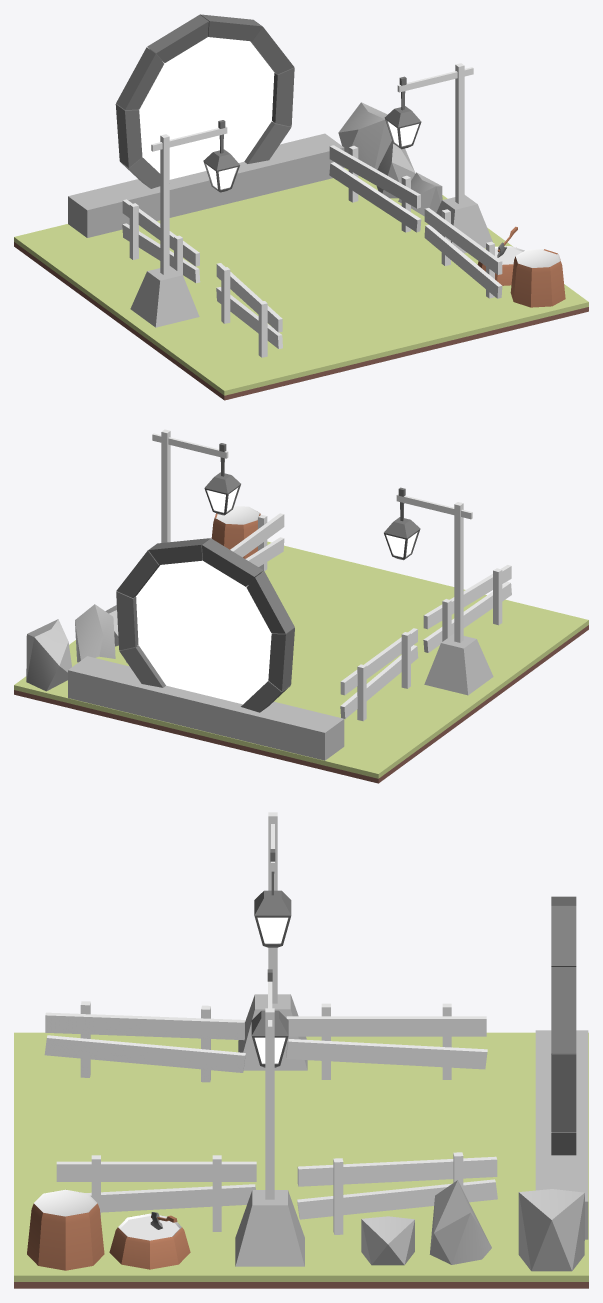
The model's file is threejsjourney.glb.
3 views of the same model, one above another, from view 1: azimuth 30°, elevation 25°; view 2: azimuth 150°, elevation 25°; view 3: azimuth 270°, elevation 25° (orthographic). The views are drawn at different scales.
Parts seen in each view (by area): view 1: fence.002, portalFill; view 2: fence.002, portalFill; view 3: fence.002, lamp2.
Boxes of the visible parts, x1,y1,x2,y2 form: fence.002: [14, 14, 588, 400]; portalFill: [139, 37, 274, 179]; fence.002: [14, 429, 588, 783]; portalFill: [136, 560, 271, 704]; fence.002: [14, 812, 588, 1288]; lamp2: [257, 917, 288, 943].
Bounding box in the file's own units: 8.02 × 4.01 × 8.
